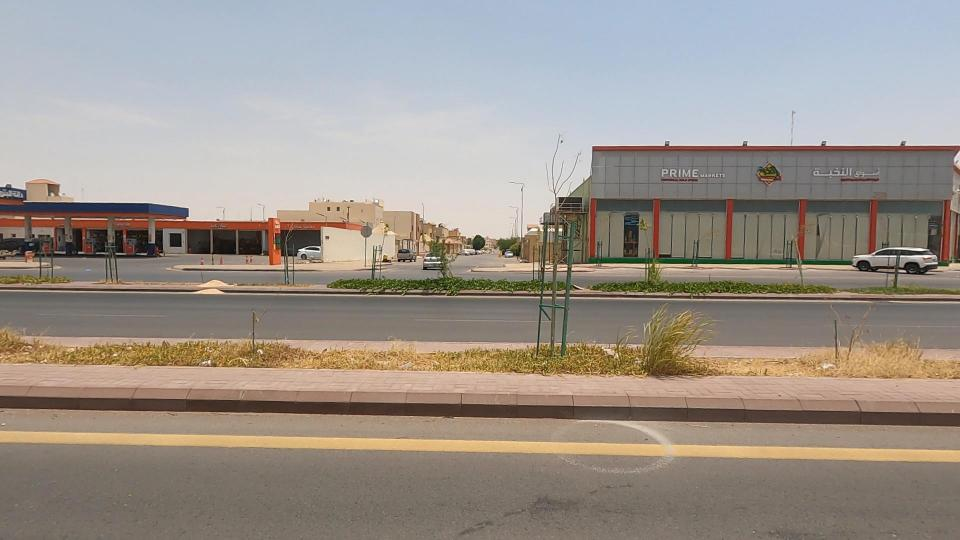GARBAGE: (544, 306, 667, 394), (790, 345, 856, 384)
SAND_ON_ROAD: (156, 258, 271, 321)
